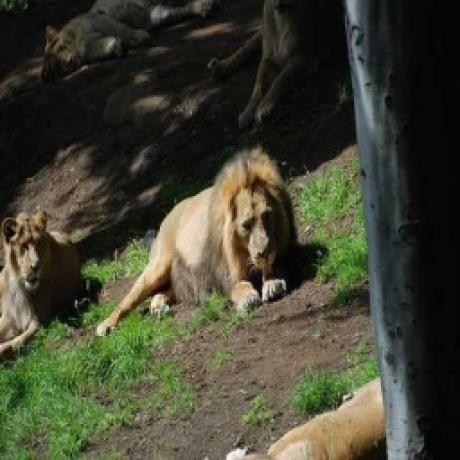Lion: (94, 138, 303, 320), (0, 203, 85, 354), (225, 381, 386, 460)
